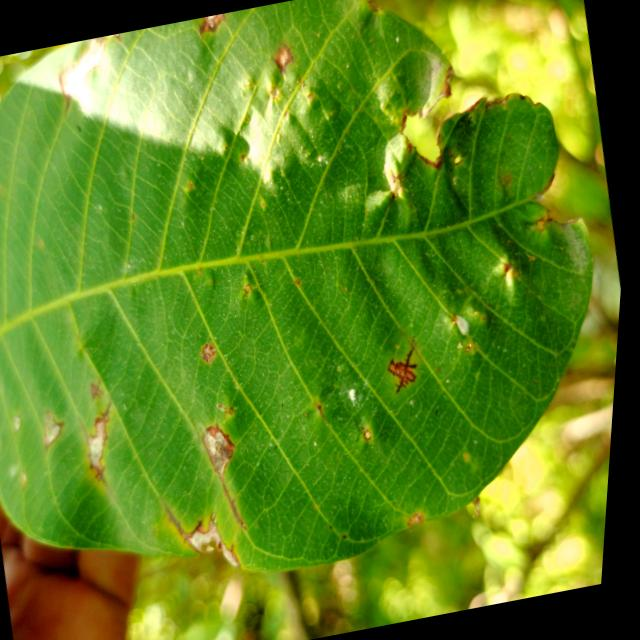Corynespora: (200, 420, 260, 532), (77, 400, 137, 502), (169, 496, 216, 545), (388, 346, 429, 394), (196, 13, 229, 36)
